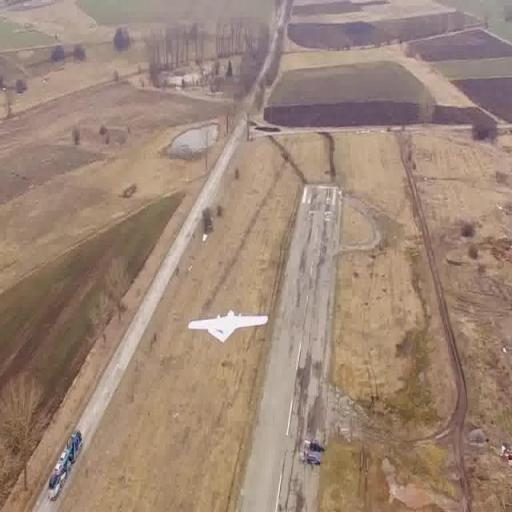uav: (185, 300, 273, 350)
